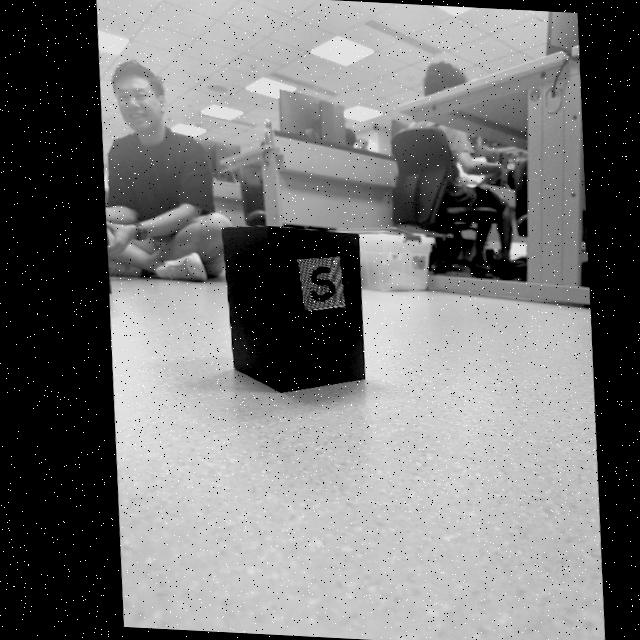S: (306, 267, 329, 300)
